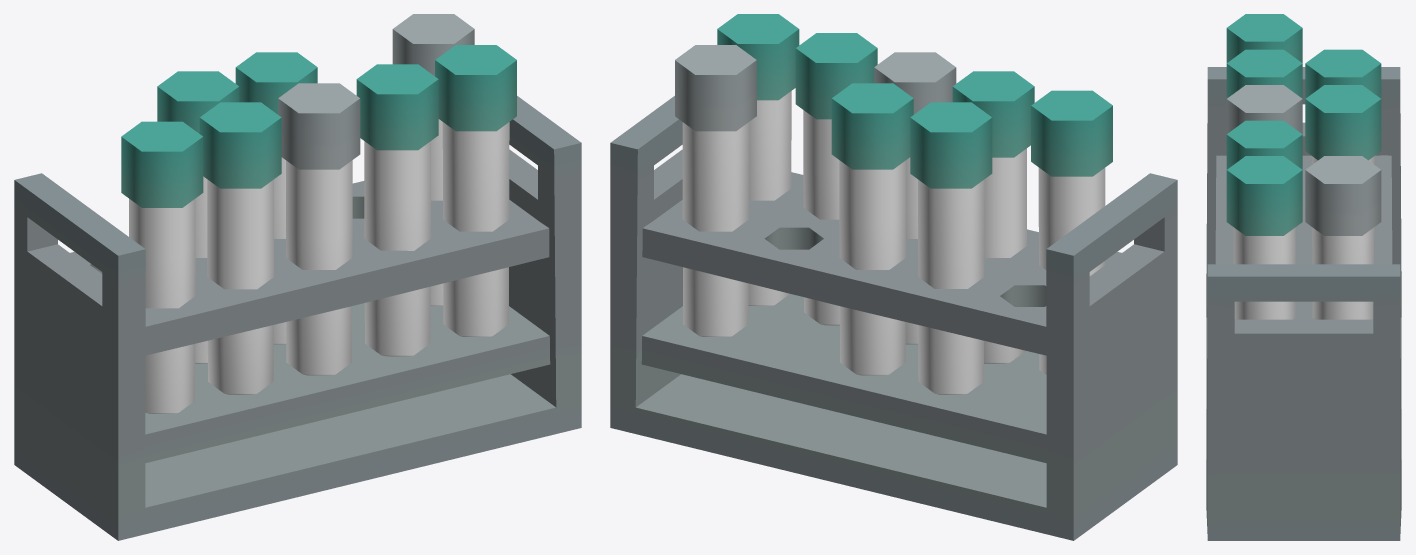
The model's file is Pfb_JLAB_Probe_Rack__3.fbx.
The picture shows the model from 3 angles, left to right: view 1: azimuth 30°, elevation 25°; view 2: azimuth 150°, elevation 25°; view 3: azimuth 270°, elevation 25°; orthographic projection. The views are drawn at different scales.
Visible parts, largest first — view 1: Color_Dark, Glass; view 2: Color_Dark, Glass; view 3: Color_Dark, Glass.
Part boxes in pixels (left/top/right/bottom): Color_Dark: left=14, top=14, right=581, bottom=540; Glass: left=129, top=119, right=509, bottom=413; Color_Dark: left=610, top=14, right=1177, bottom=540; Glass: left=682, top=91, right=1105, bottom=394; Color_Dark: left=1206, top=14, right=1401, bottom=540; Glass: left=1233, top=156, right=1374, bottom=319.
Size of the model in its own units: 0.4735 by 0.3529 by 0.1855.
2 materials, 2 textured.
